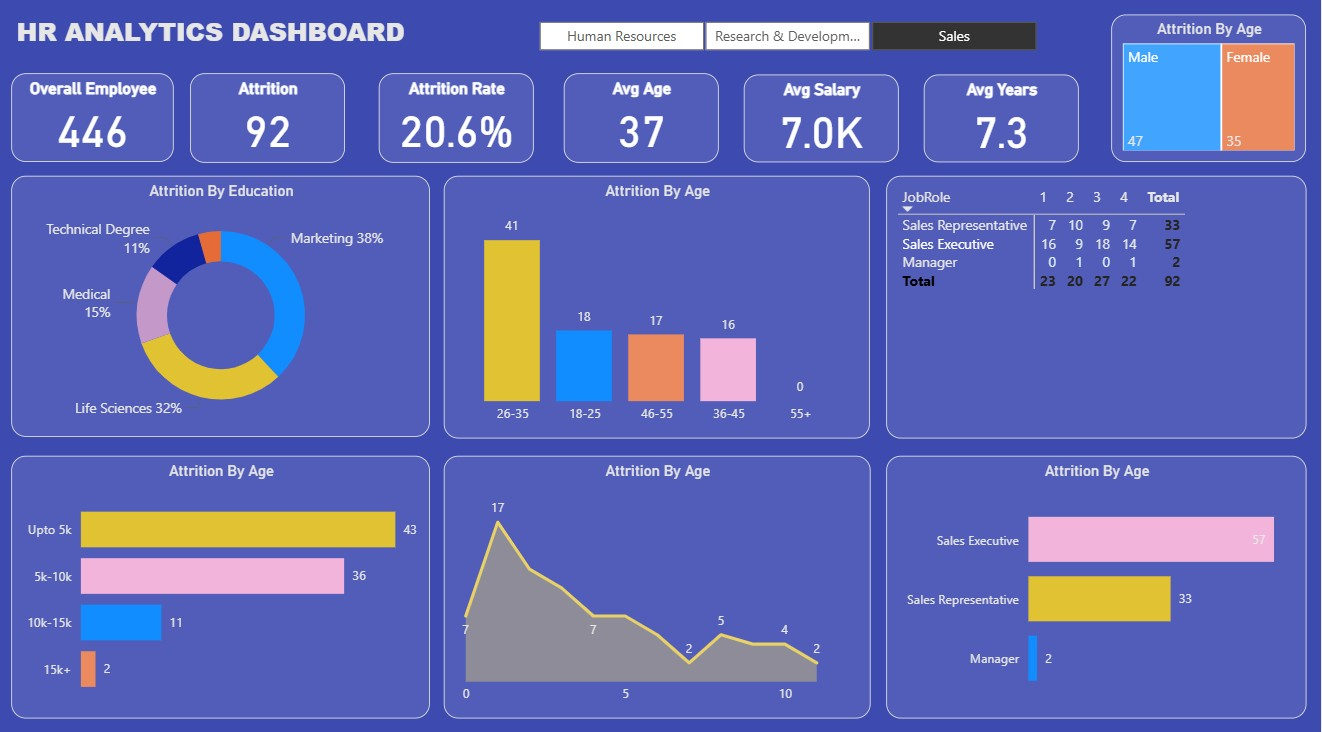

What the dashboard file says about the page in this screenshot:
{"tool":"powerbi","page":{"name":"Page 1","canvas":[1280,720],"ordinal":0},"visuals":[{"type":"card","title":"Overall Employee","fields":{"Values":["CountNonNull(HR_Analytics.EmpID)"]},"box":[15.7,78.4,156.8,85.7],"z":0},{"type":"card","title":"Attrition","fields":{"Values":["Sum(HR_Analytics.AttritionValue)"]},"box":[188,78.2,149.6,86.4],"z":1000},{"type":"card","title":"Attrition Rate","fields":{"Values":["HR_Analytics.AttritionRate"]},"box":[370.5,78.2,149.6,86.4],"z":2000},{"type":"card","title":"Avg Age","fields":{"Values":["Avg(HR_Analytics.Age)"]},"box":[548.9,78.2,149.6,86.4],"z":3000},{"type":"card","title":"Avg Salary","fields":{"Values":["Avg(HR_Analytics.MonthlyIncome)"]},"box":[723.2,79.6,149.6,85.1],"z":4000},{"type":"card","title":"Avg Years","fields":{"Values":["Avg(HR_Analytics.YearsAtCompany)"]},"box":[896.1,79.6,149.6,85.1],"z":5000},{"type":"donutChart","title":"Attrition By Education","fields":{"Category":["HR_Analytics.EducationField"],"Y":["Sum(HR_Analytics.AttritionValue)"]},"box":[15.7,177.3,404.2,252.1],"z":6000},{"type":"columnChart","title":"Attrition By Age","fields":{"Category":["HR_Analytics.AgeGroup"],"Y":["Sum(HR_Analytics.AttritionValue)"]},"box":[433.1,177.3,411.4,253.4],"z":7000},{"type":"pivotTable","fields":{"Rows":["HR_Analytics.JobRole"],"Columns":["HR_Analytics.JobSatisfaction"],"Values":["Sum(HR_Analytics.AttritionValue)"]},"box":[860.2,177.3,405.4,253.4],"z":8000},{"type":"barChart","title":"Attrition By Age","fields":{"Category":["HR_Analytics.SalarySlab"],"Y":["Sum(HR_Analytics.AttritionValue)"]},"box":[15.7,447.6,404.2,253.4],"z":9000},{"type":"barChart","title":"Attrition By Age","fields":{"Category":["HR_Analytics.JobRole"],"Y":["Sum(HR_Analytics.AttritionValue)"]},"box":[860.2,447.6,405.4,253.4],"z":10000},{"type":"areaChart","title":"Attrition By Age","fields":{"Category":["HR_Analytics.YearsAtCompany"],"Y":["Sum(HR_Analytics.AttritionValue)"]},"box":[433.6,447.3,411.7,253.9],"z":11000},{"type":"treemap","title":"Attrition By Age","fields":{"Group":["HR_Analytics.Gender"],"Values":["Sum(HR_Analytics.AttritionValue)"]},"box":[1077.2,22,188,142.7],"z":12000},{"type":"slicer","fields":{"Values":["HR_Analytics.Department"]},"box":[499.5,21.7,529.6,41],"z":13000},{"type":"textbox","box":[15.7,15.7,395.7,47.1],"z":14000}]}

Visuals, with their boxes in screenshot pixels (x1, y1, x2, y2), scaled from the page's 1280x720 canvas onto the 1322x732 screenshot:
"Overall Employee" card: {"left": 16, "top": 80, "right": 178, "bottom": 167}
"Attrition" card: {"left": 194, "top": 80, "right": 349, "bottom": 167}
"Attrition Rate" card: {"left": 383, "top": 80, "right": 537, "bottom": 167}
"Avg Age" card: {"left": 567, "top": 80, "right": 721, "bottom": 167}
"Avg Salary" card: {"left": 747, "top": 81, "right": 901, "bottom": 167}
"Avg Years" card: {"left": 926, "top": 81, "right": 1080, "bottom": 167}
"Attrition By Education" donutChart: {"left": 16, "top": 180, "right": 434, "bottom": 437}
"Attrition By Age" columnChart: {"left": 447, "top": 180, "right": 872, "bottom": 438}
pivotTable - HR_Analytics.JobRole x HR_Analytics.JobSatisfaction: {"left": 888, "top": 180, "right": 1307, "bottom": 438}
"Attrition By Age" barChart: {"left": 16, "top": 455, "right": 434, "bottom": 713}
"Attrition By Age" barChart: {"left": 888, "top": 455, "right": 1307, "bottom": 713}
"Attrition By Age" areaChart: {"left": 448, "top": 455, "right": 873, "bottom": 713}
"Attrition By Age" treemap: {"left": 1113, "top": 22, "right": 1307, "bottom": 167}
slicer - HR_Analytics.Department: {"left": 516, "top": 22, "right": 1063, "bottom": 64}
textbox: {"left": 16, "top": 16, "right": 425, "bottom": 64}
